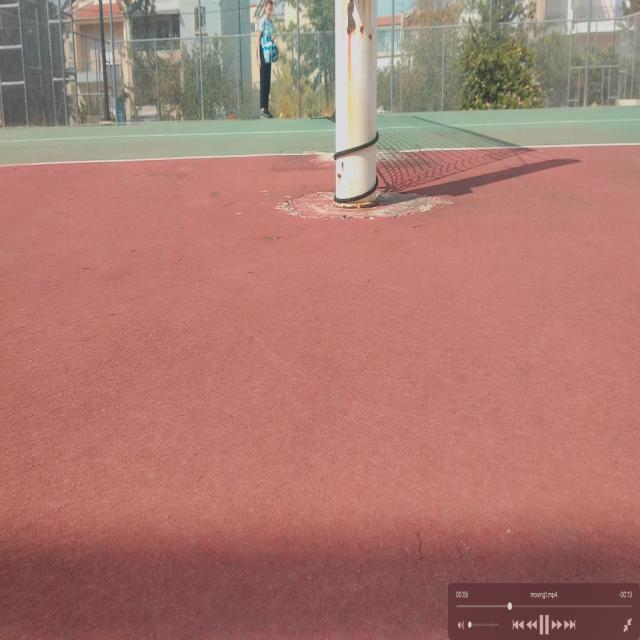ball: (280, 112, 284, 119)
